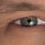eye: (21, 18, 37, 26)
